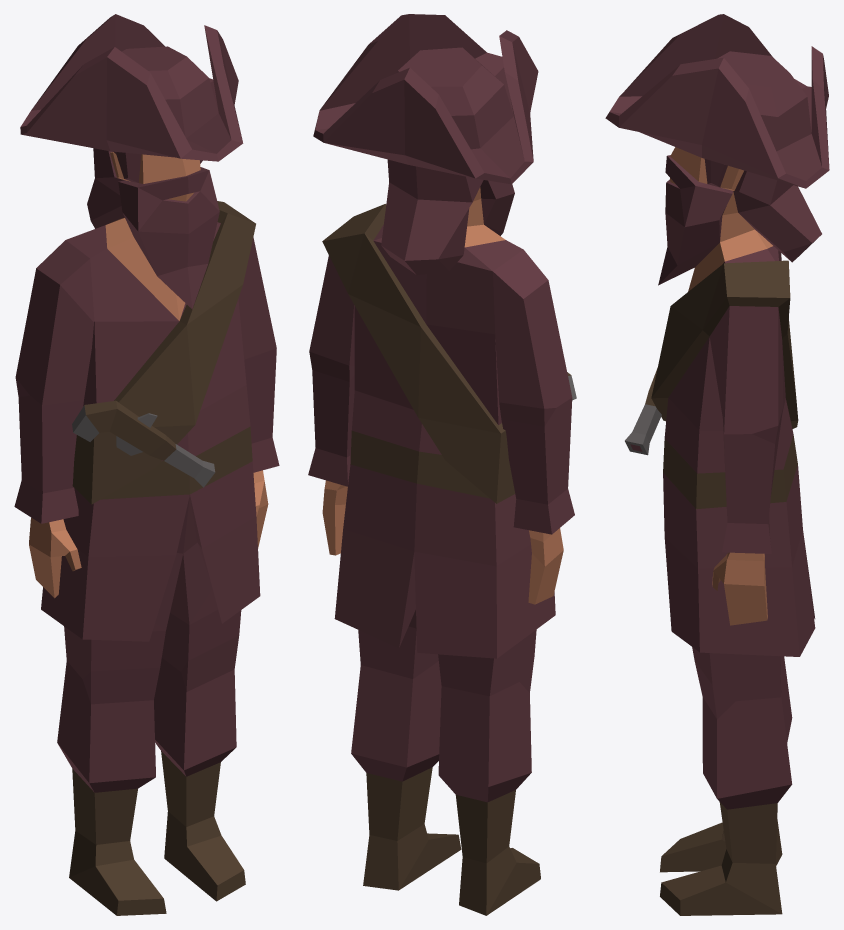
Rendered from man-pirate-captain.fbx.
3 views of the same model, side by side, from view 1: azimuth 30°, elevation 25°; view 2: azimuth 150°, elevation 25°; view 3: azimuth 270°, elevation 25° (orthographic).
Visible parts, largest first — view 1: man-pirate-captain; view 2: man-pirate-captain; view 3: man-pirate-captain.
Boxes of the visible parts, x1,y1,x2,y2 form: man-pirate-captain: (14,14,279,915); man-pirate-captain: (308,14,576,915); man-pirate-captain: (605,14,829,915).
Bounding box in the file's own units: 0.5839 × 1.95 × 0.4677.
